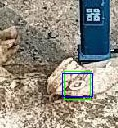text: (64, 71, 90, 99)
